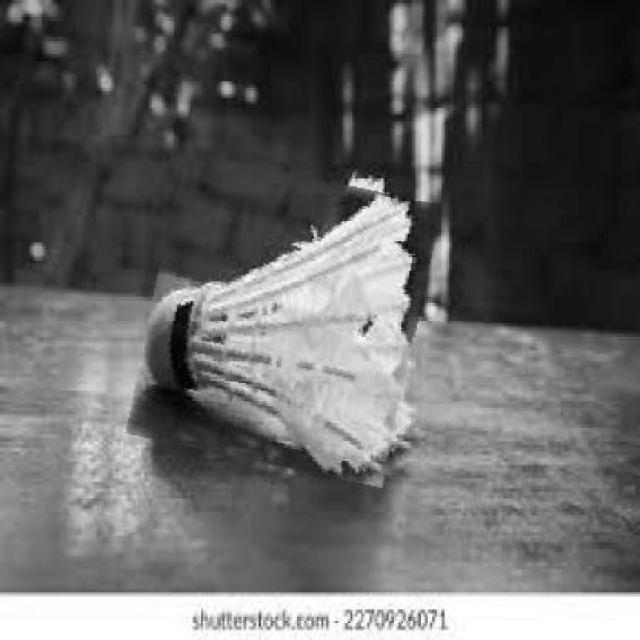Shuttlecock: (143, 192, 412, 475)
